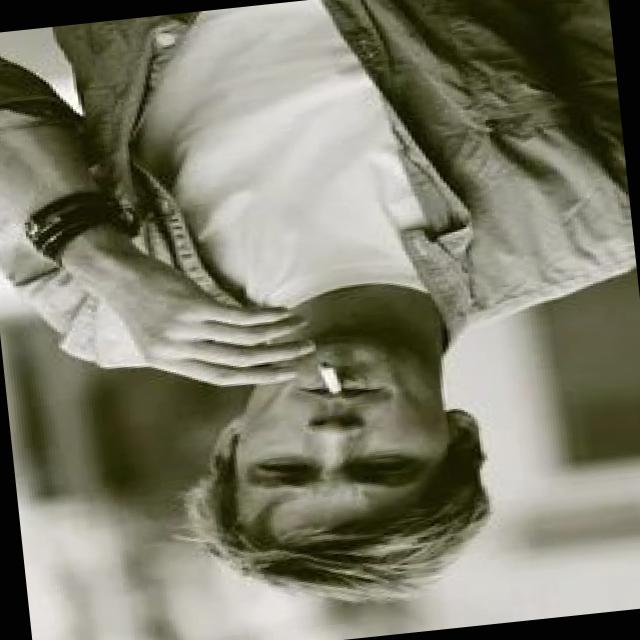smoke: (314, 358, 351, 400)
